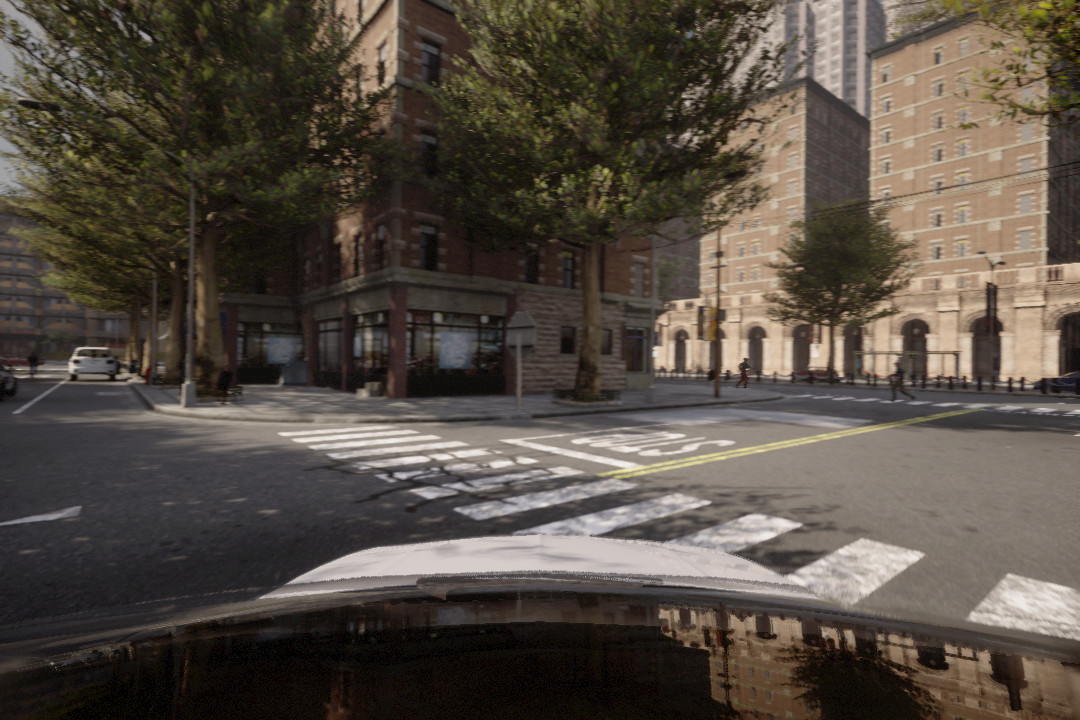walkside: (272, 423, 1080, 657)
